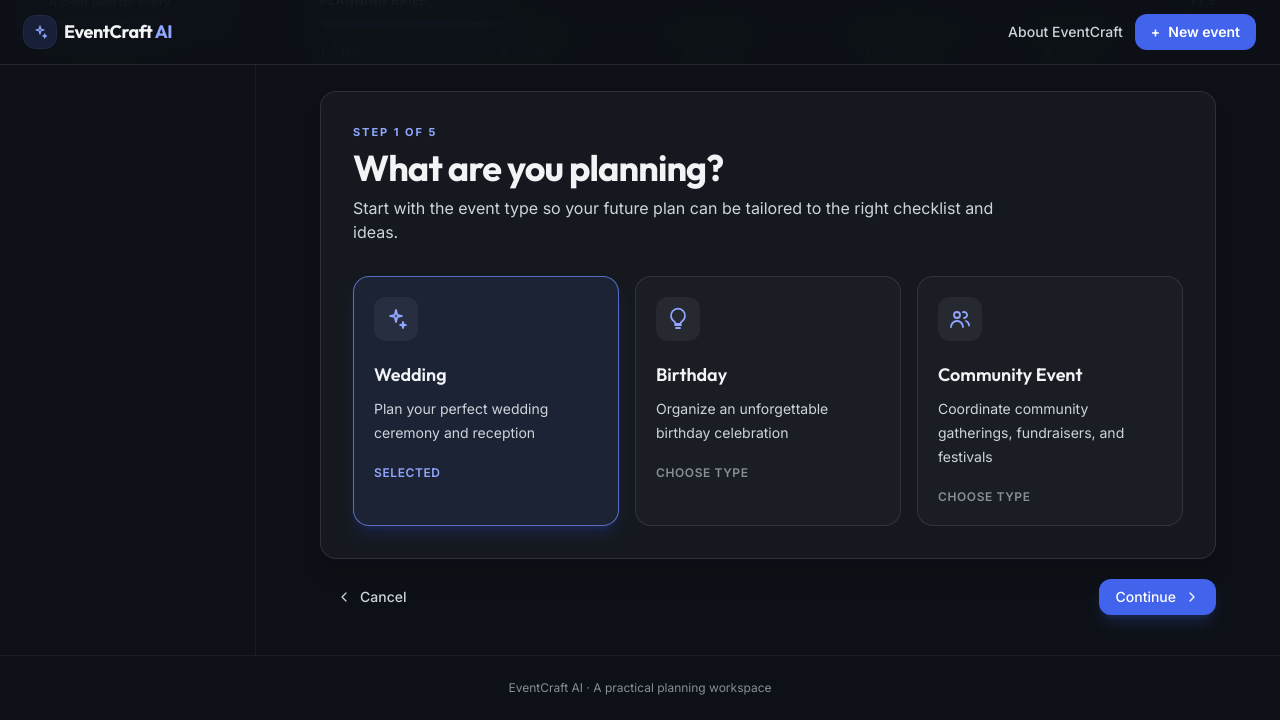
Test: application shell and event wizard › preserves values when navigating backward through the wizard
(page scrolled)
Step 1. Click the button "Continue" → (1158, 597), box [1100,579,1216,615]
(page scrolled)
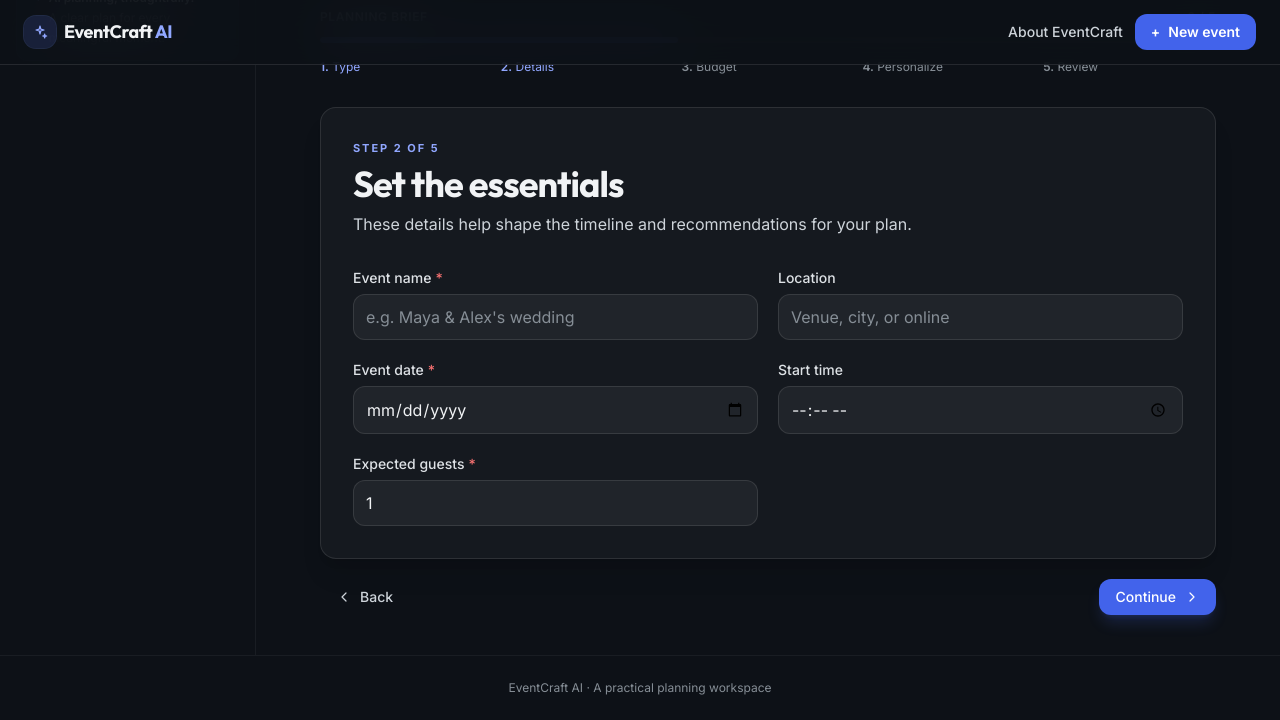
Step 2. Type "Riya birthday" into the field labelled "Event name*" → (556, 317), box [353,294,758,340]
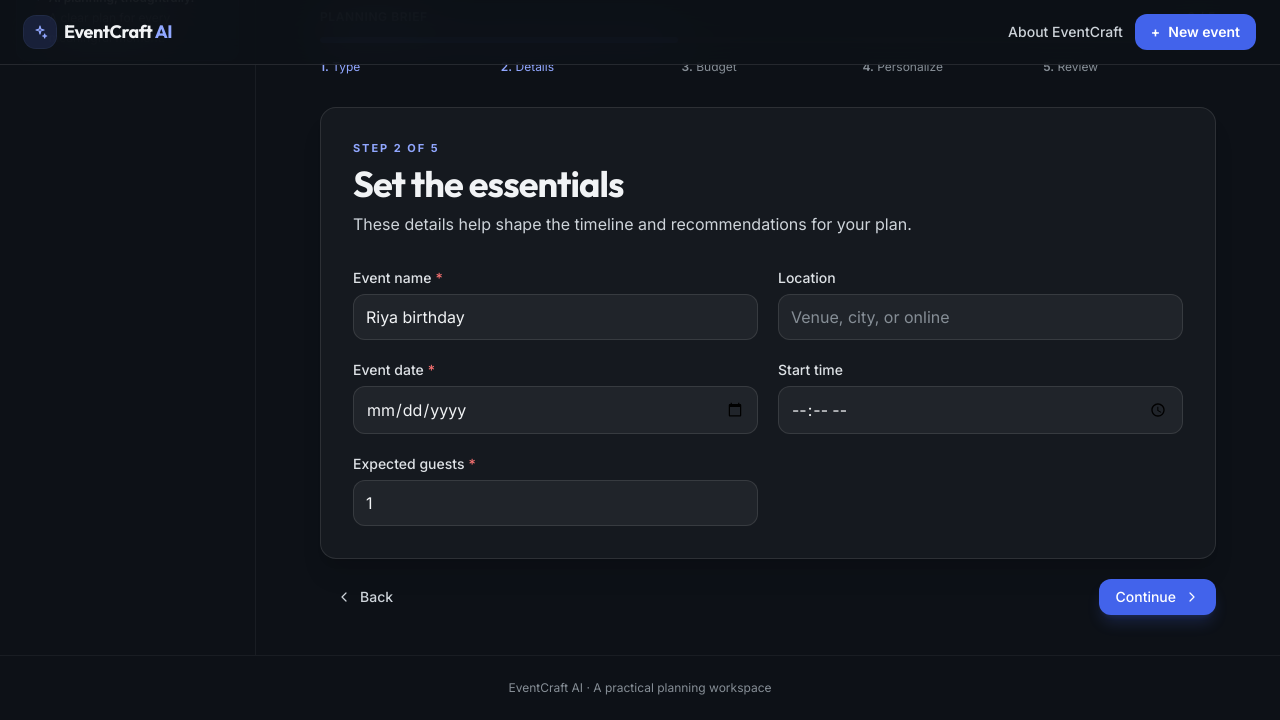
Step 3. Type "2026-12-10" into the date field labelled "Event date*" → (556, 410), box [353,386,758,434]
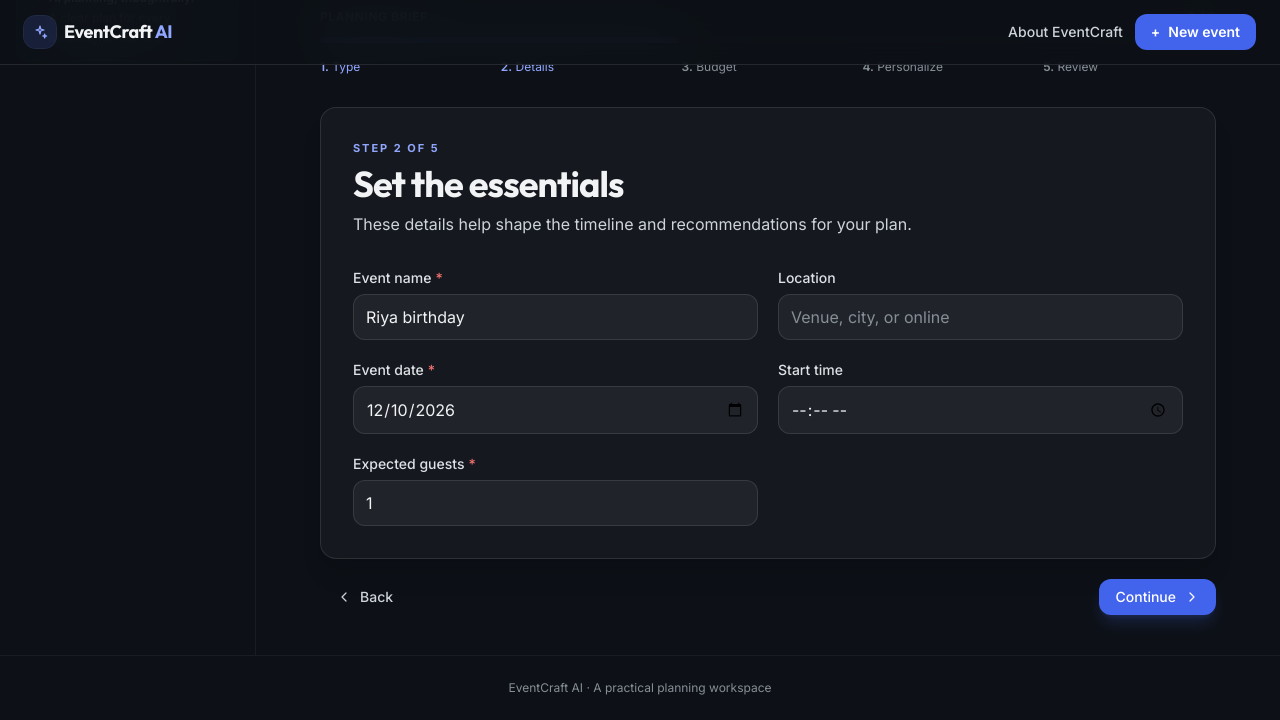
Step 4. Replace the text in the number field labelled "Expected guests*" with "40" → (556, 503), box [353,480,758,526]
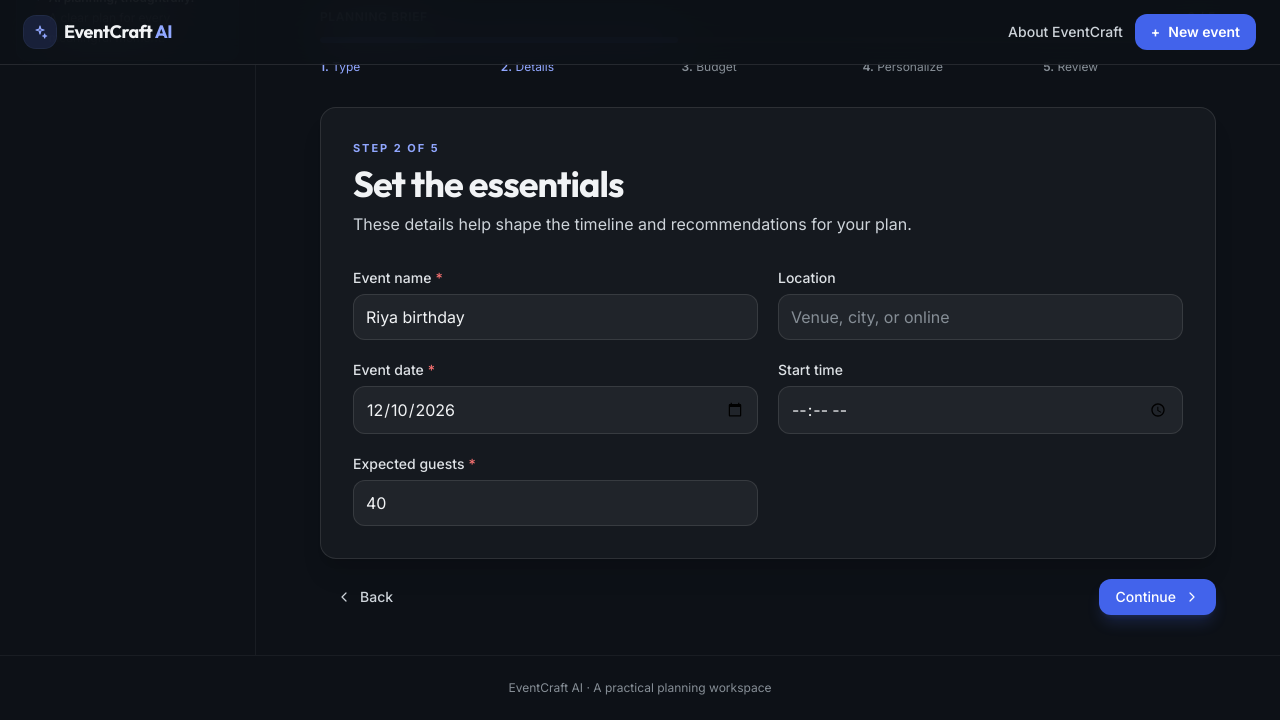
Step 5. Click the button "Back" → (365, 597), box [320,579,409,615]
(page scrolled)
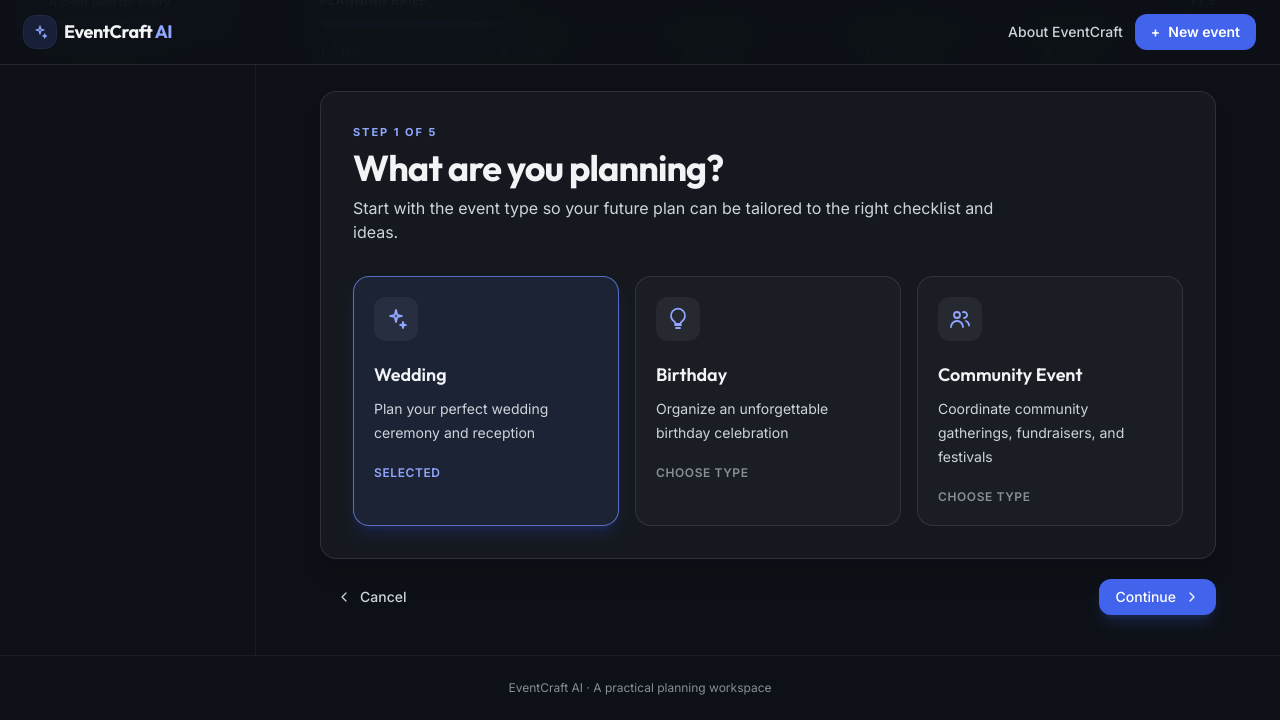
Expected: the heading "What are you planning?" is shown, [353,145,723,190]
Step 6. Click the button "Continue" → (1158, 597), box [1100,579,1216,615]
(page scrolled)
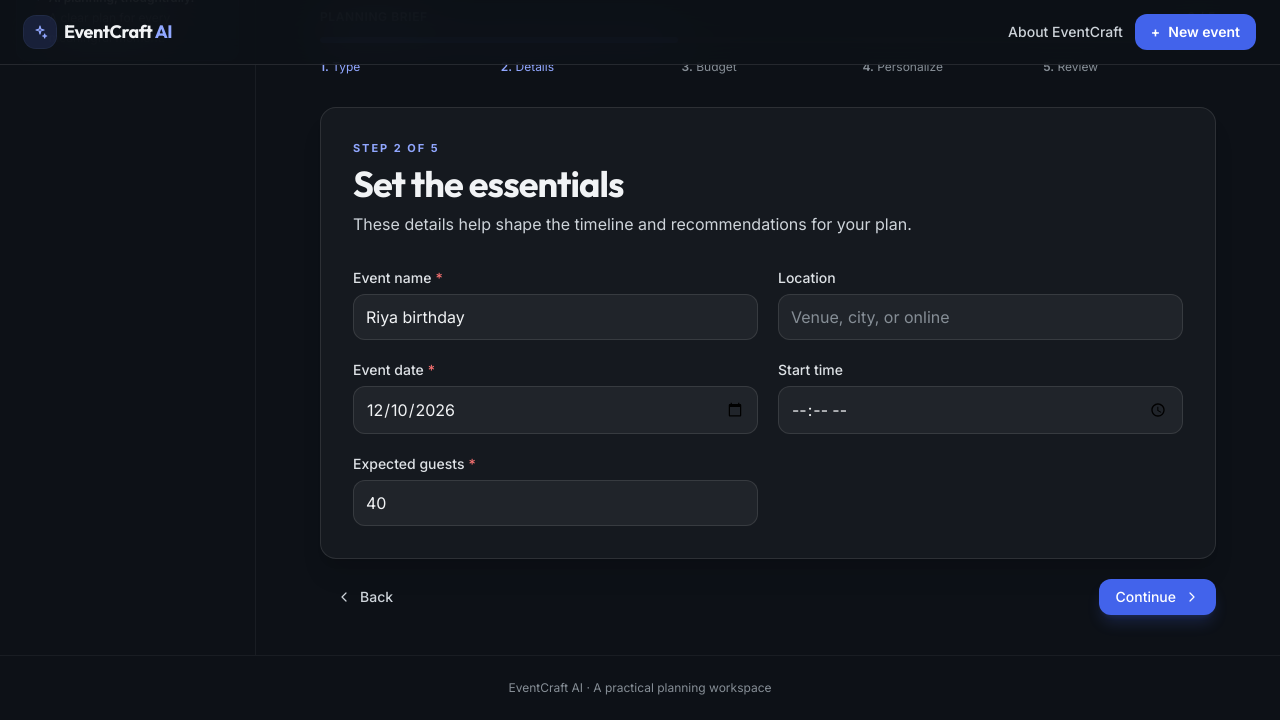
Expected: the field showing "Riya birthday" is shown, [353,294,758,340]
Expected: the date field showing "2026-12-10" is shown, [353,386,758,434]
